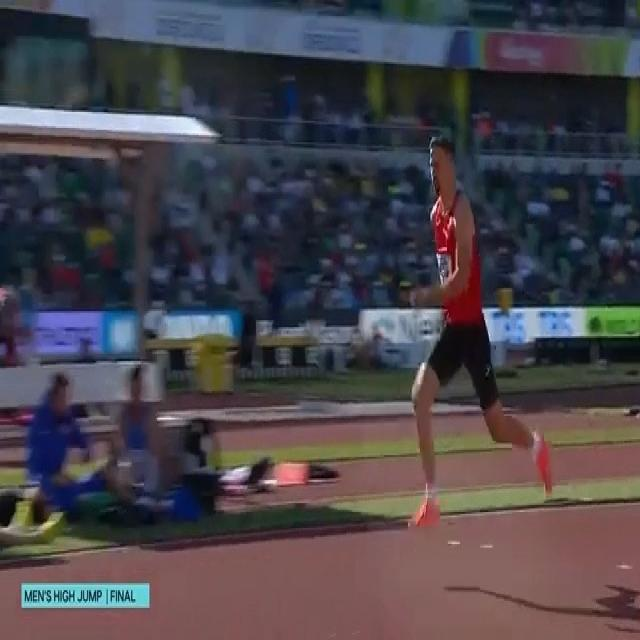run: (395, 137, 550, 542)
